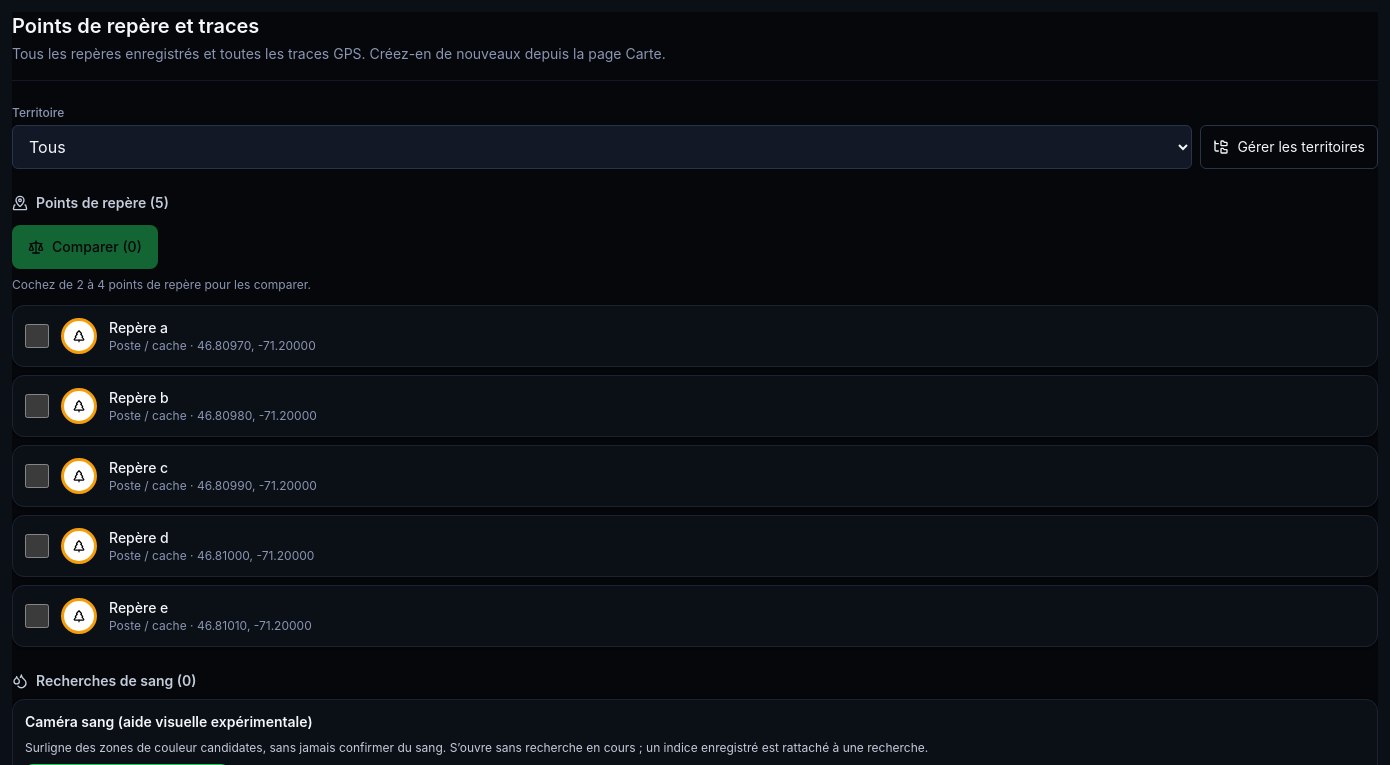
Scenario: WaypointsPage — comparison selection › has one checkbox per waypoint and a "Comparer (N)" button enabled only for 2 to 4
Check: the button "Comparer (0)" is disabled, box [12,225,158,269]
Click the checkbox named "Comparer : Repère a".
click(37, 336)  # box [25,324,49,348]
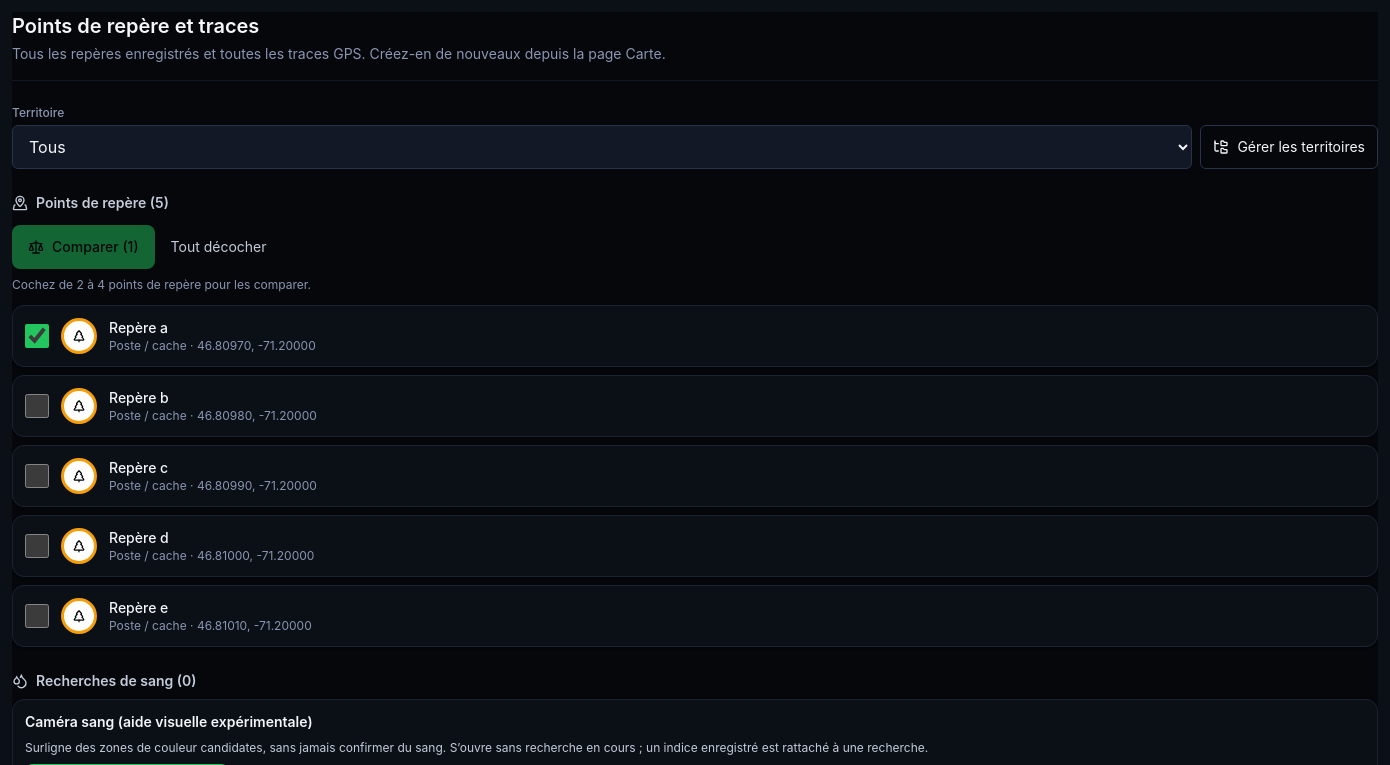
Check: the button "Comparer (1)" is disabled, box [12,225,155,269]
Click the checkbox named "Comparer : Repère b".
click(37, 406)  # box [25,394,49,418]
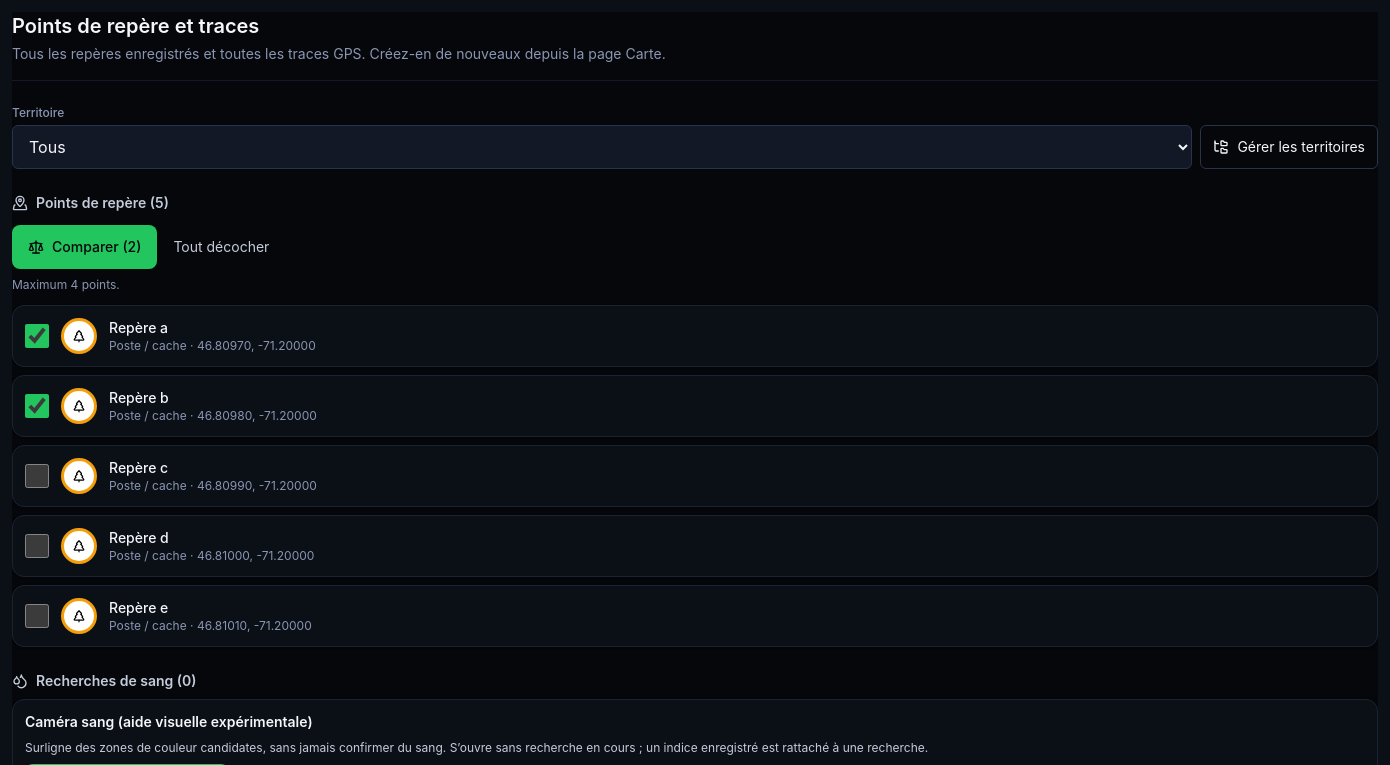
Check: the button "Comparer (2)" is enabled, box [12,225,157,269]
Click the checkbox named "Comparer : Repère c".
click(37, 476)  # box [25,464,49,488]
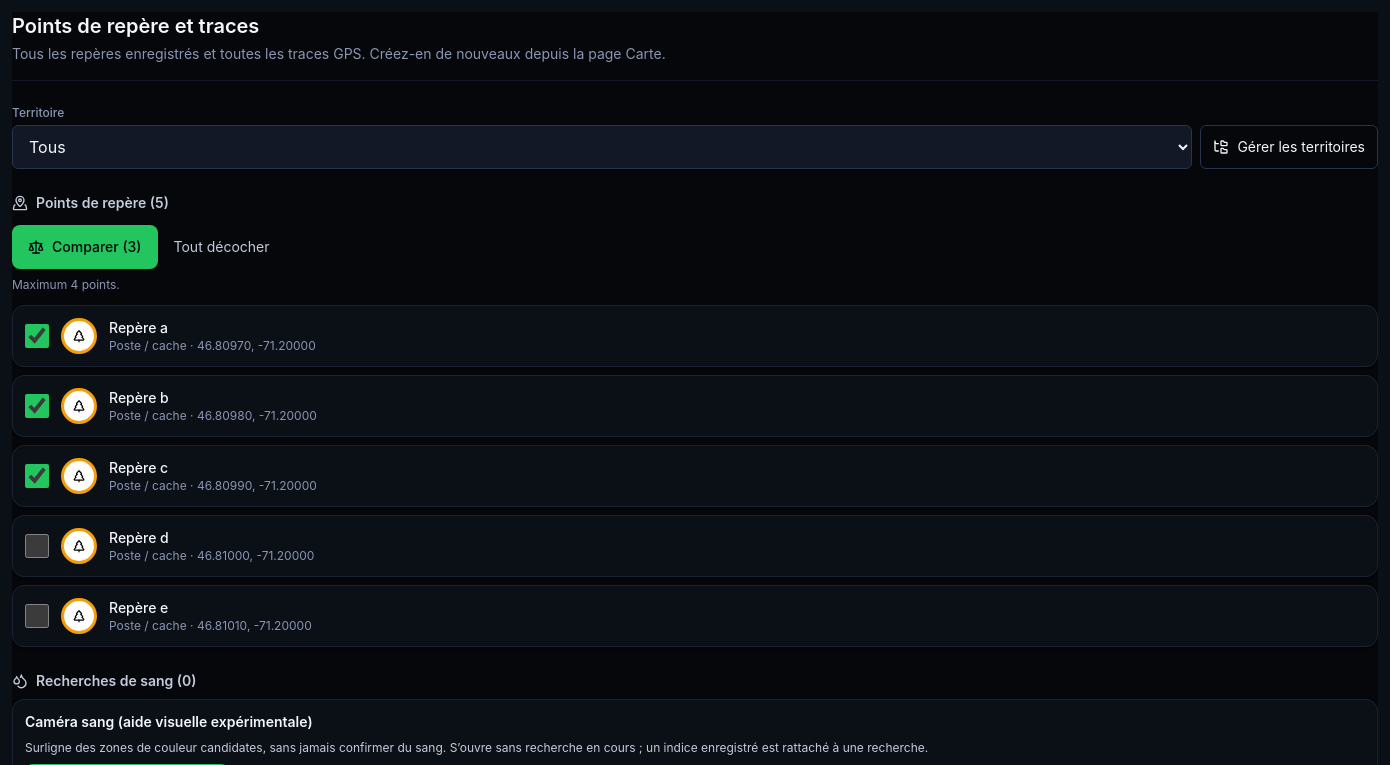
Click the checkbox named "Comparer : Repère d".
click(37, 546)  # box [25,534,49,558]
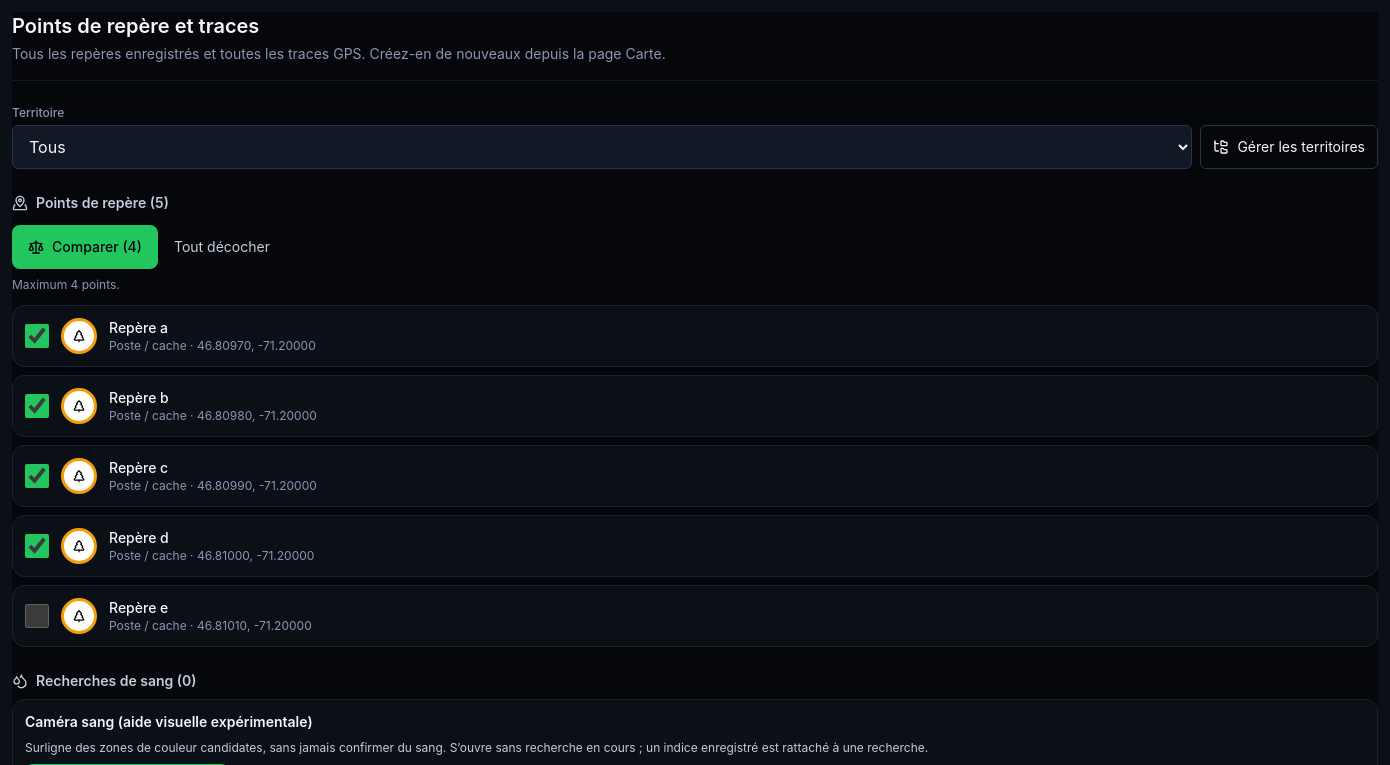
Check: the button "Comparer (4)" is enabled, box [12,225,158,269]
Check: the checkbox named "Comparer : Repère e" is disabled, box [25,604,49,628]
